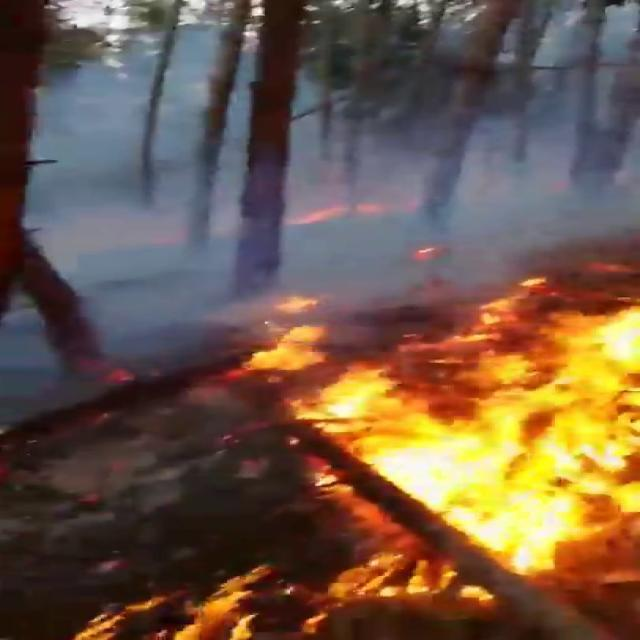Fire: (64, 268, 640, 639)
Smoke: (296, 7, 640, 310)
